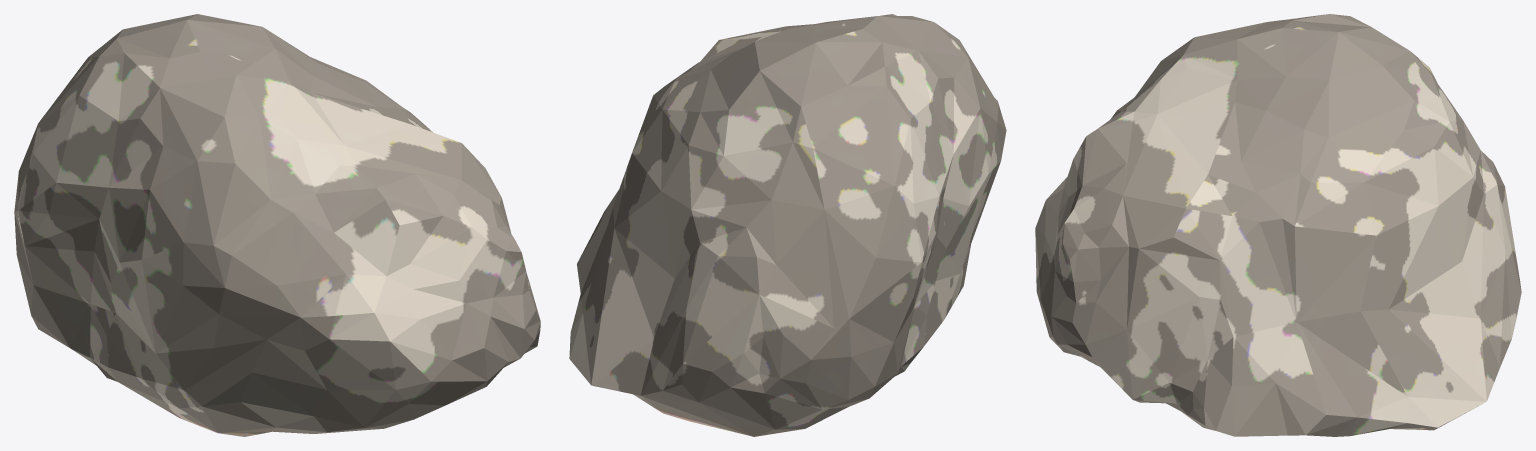
The model's file is RockGrayB.fbx.
3 views of the same model, side by side, from view 1: azimuth 30°, elevation 25°; view 2: azimuth 150°, elevation 25°; view 3: azimuth 270°, elevation 25° (orthographic). The views are drawn at different scales.
Parts seen in each view (by area): view 1: RockGrayB; view 2: RockGrayB; view 3: RockGrayB.
Part boxes in pixels (box(x1,y1,x2,y2)): RockGrayB: box(14, 14, 540, 436); RockGrayB: box(569, 14, 1006, 436); RockGrayB: box(1035, 14, 1521, 436).
Bounding box in the file's own units: 2.67 × 2.36 × 3.
1 material, 1 textured.
